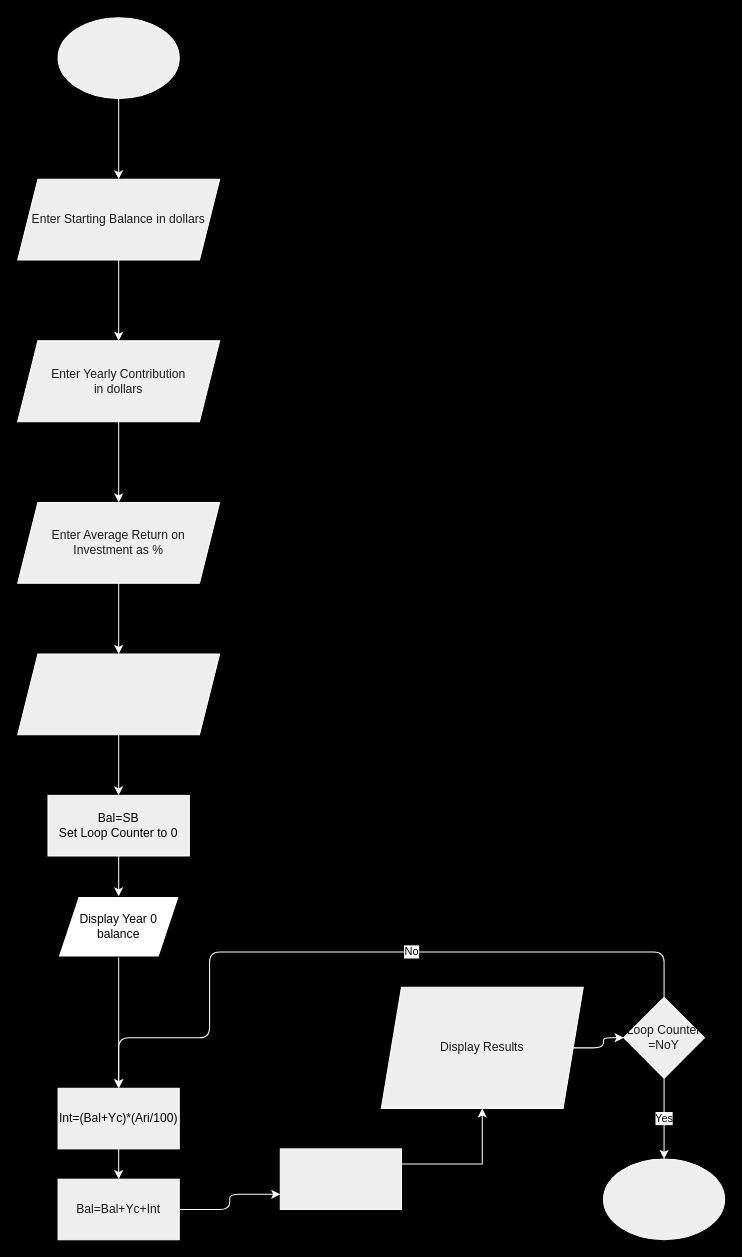
The diagram is 742 pixels wide and 1257 high, and some of its shapes have lost their labels. Each missing label, with the centre of its shape:
"add 1 to Loop Counter" belongs at point (340, 1178).
"End" belongs at point (663, 1199).
"Enter Number of years for the report" belongs at point (118, 694).
"Start" belongs at point (118, 57).
